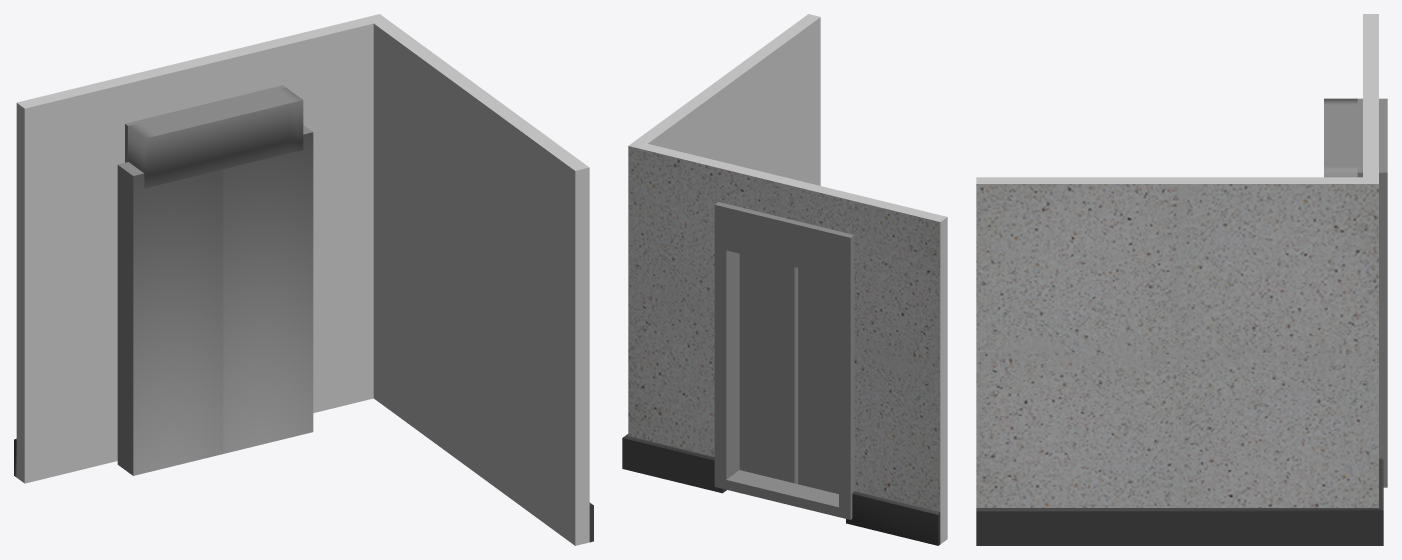
The model's file is House_Corridor_Elevator.fbx.
3 views of the same model, side by side, from view 1: azimuth 30°, elevation 25°; view 2: azimuth 150°, elevation 25°; view 3: azimuth 270°, elevation 25° (orthographic). The views are drawn at different scales.
Parts seen in each view (by area): view 1: House_Wall_Full__20_111.001; view 2: House_Wall_Full__20_111.001; view 3: House_Wall_Full__20_111.001.
Boxes of the visible parts, box(x1,y1,x2,y2) form: House_Wall_Full__20_111.001: box(14, 14, 593, 545); House_Wall_Full__20_111.001: box(622, 14, 947, 545); House_Wall_Full__20_111.001: box(976, 14, 1387, 545).
Bounding box in the file's own units: 257 × 250 × 259.
